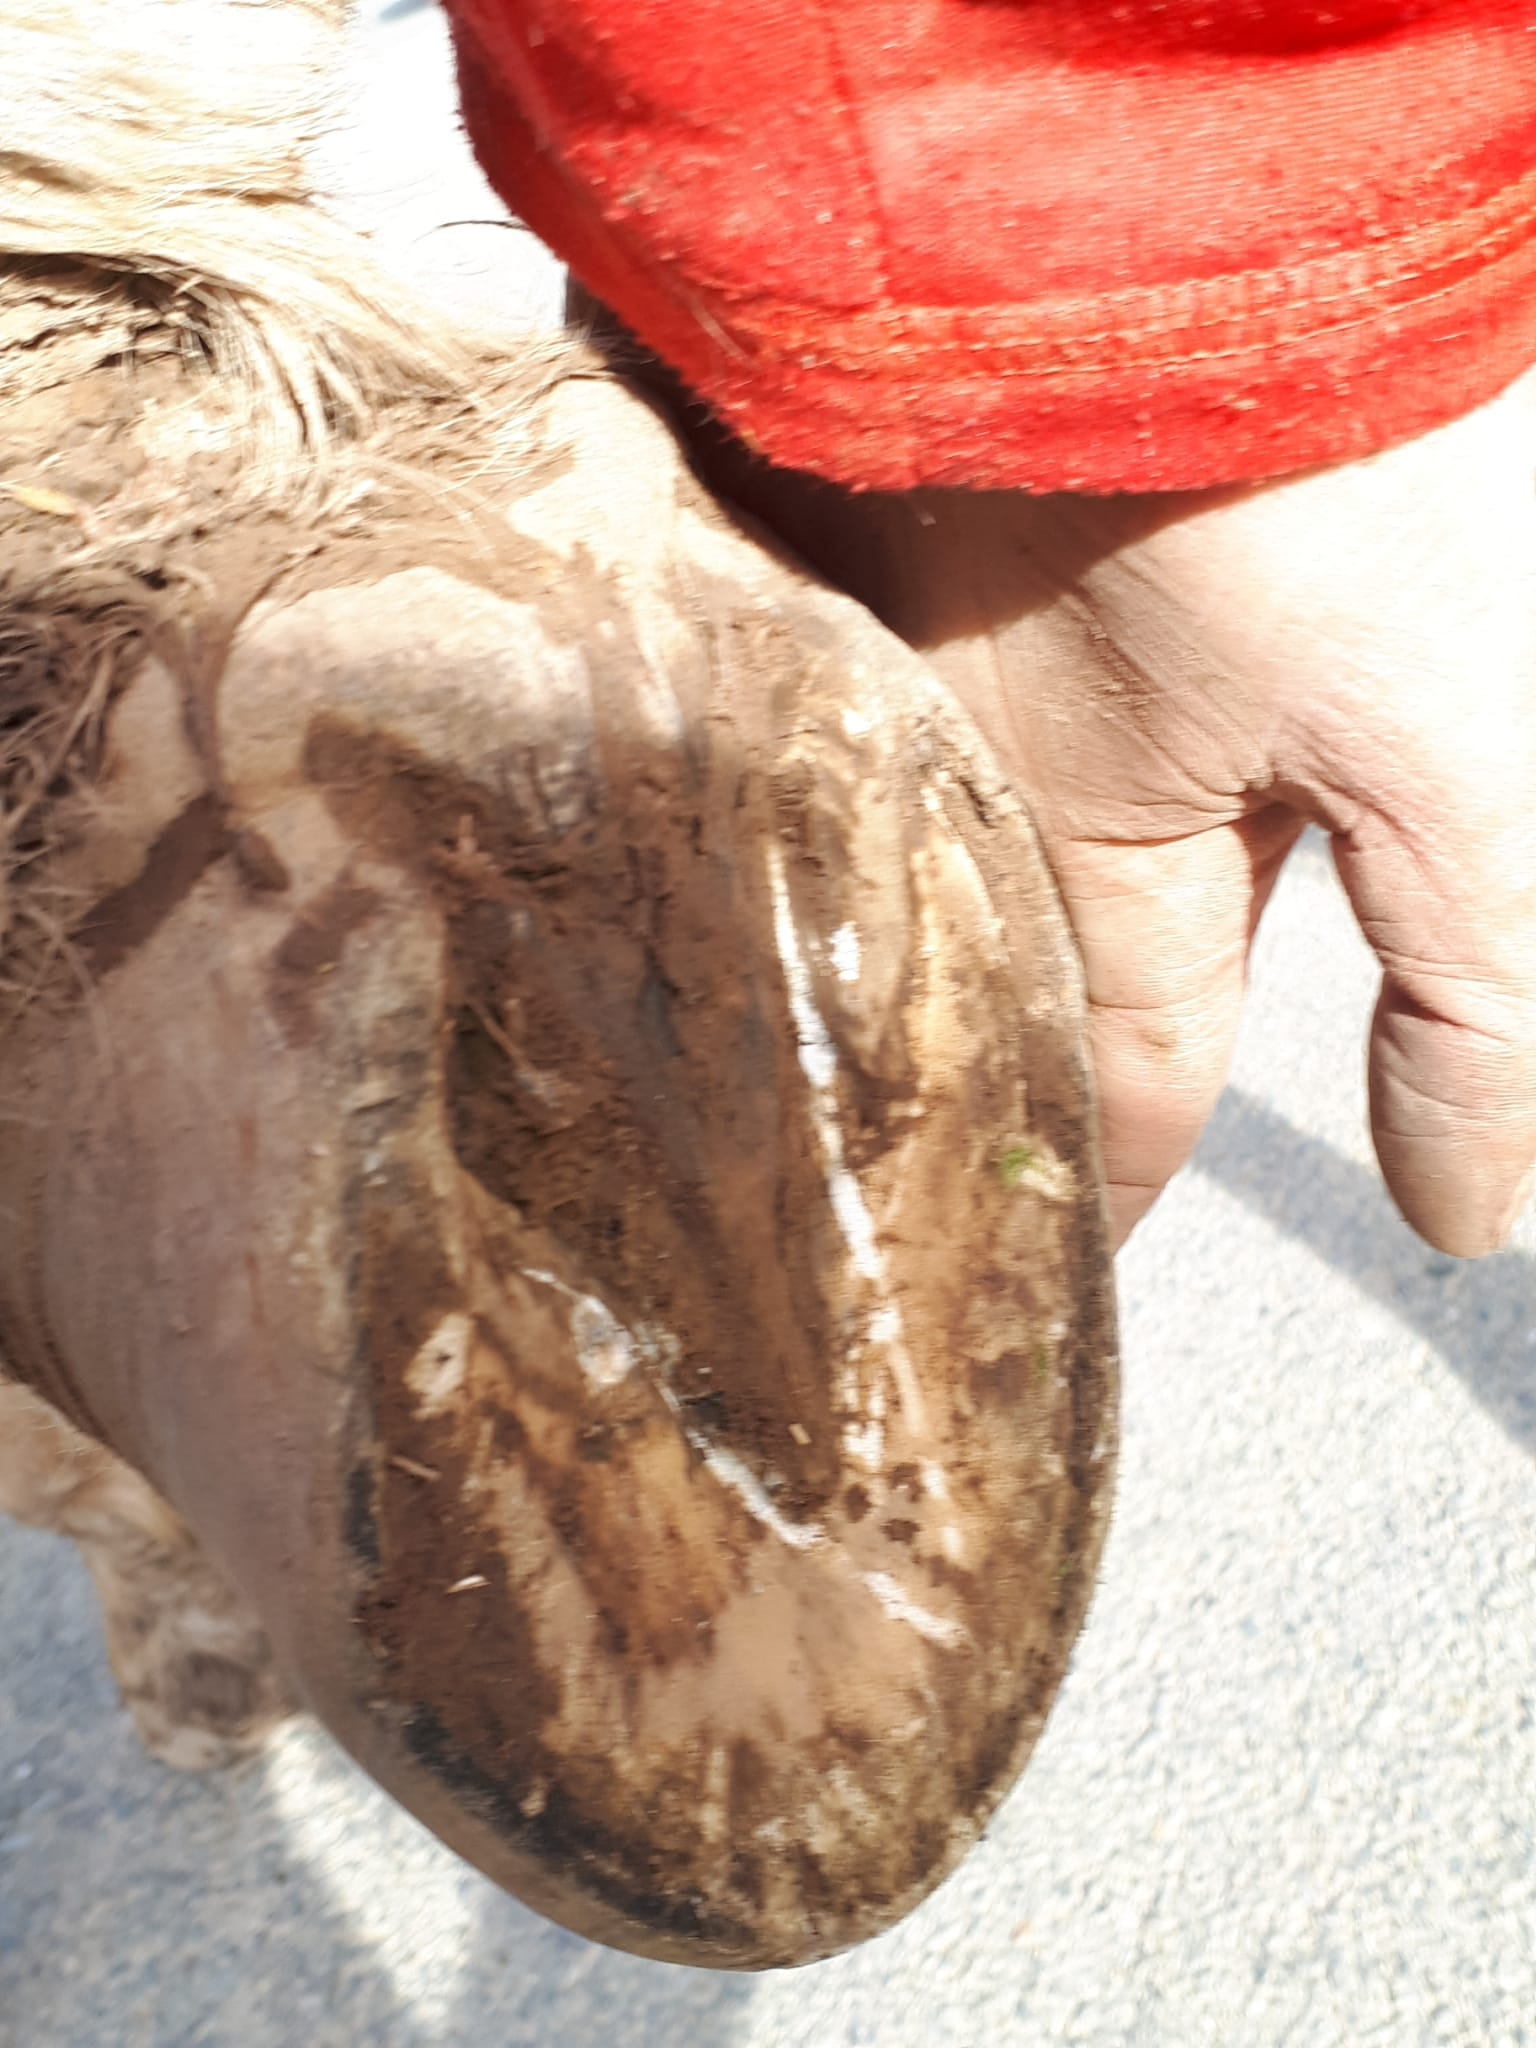horsesole: (305, 653, 1128, 1966)
